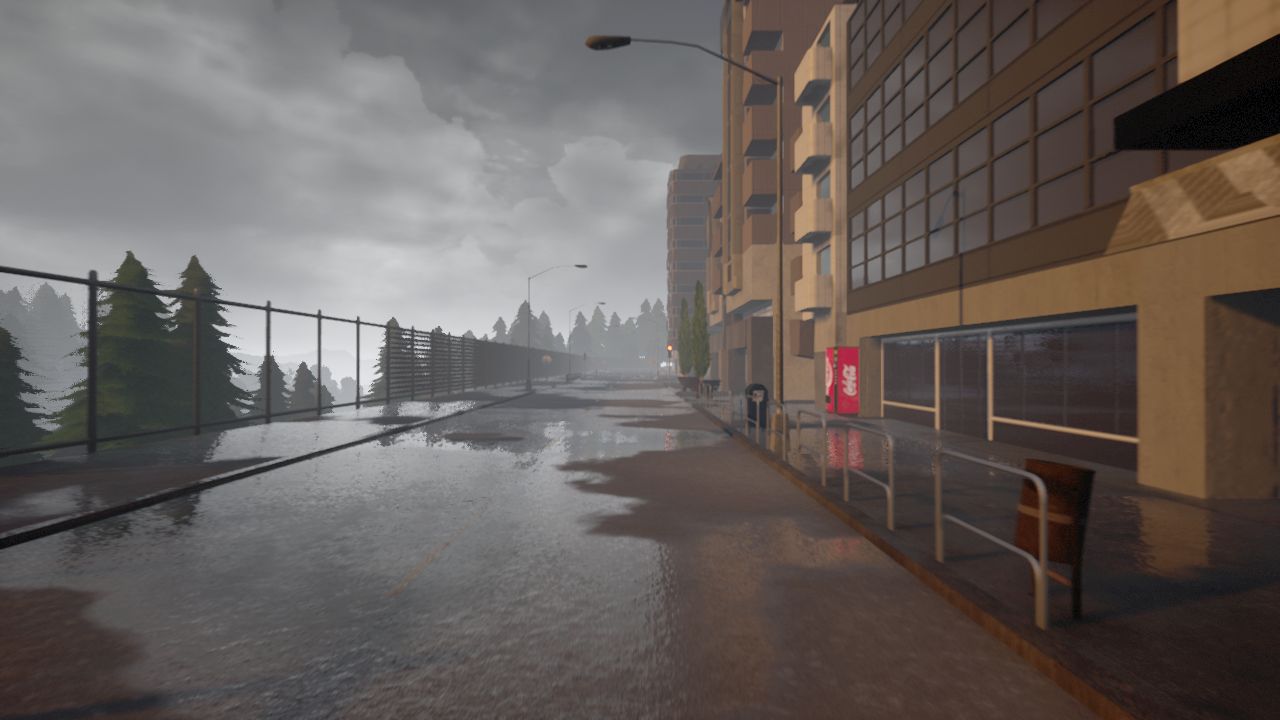red: (666, 345, 673, 358)
